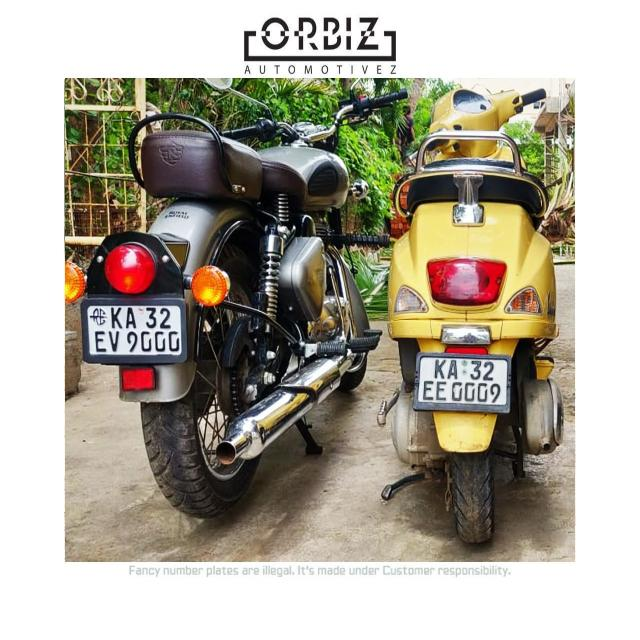number plate: (80, 296, 187, 364), (412, 351, 510, 413)
